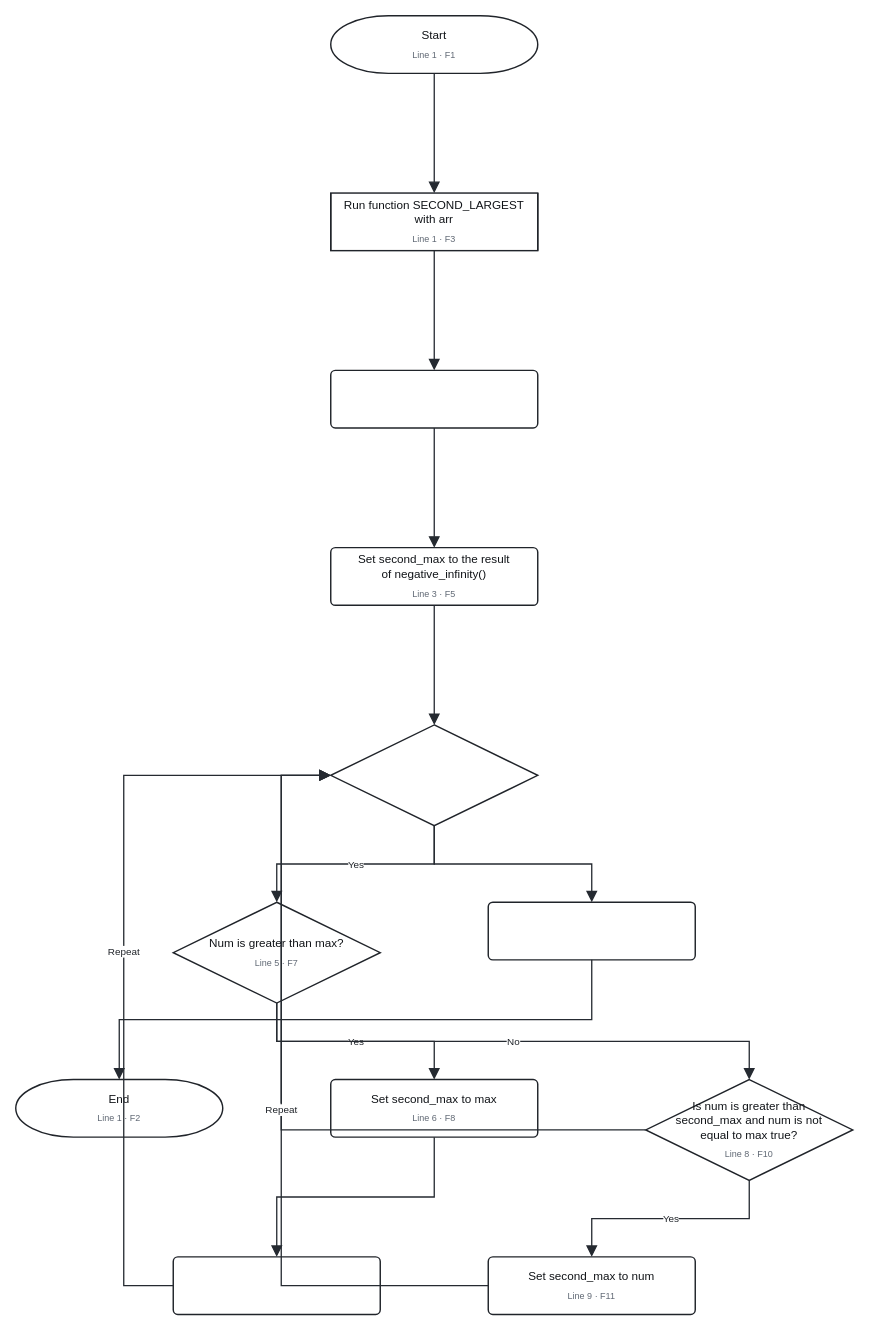
This 869x1331 diagram has some shape labels left out. Each missing label, with the centre of its shape:
"For each num in arr Line 4 · F6" belongs at [434,775].
"Return second_max Line 12 · F12" belongs at [591,930].
"Set max to num Line 7 · F9" belongs at [276,1285].
"Set max to the result of negative_infinity() Line 2 · F4" belongs at [434,398].
